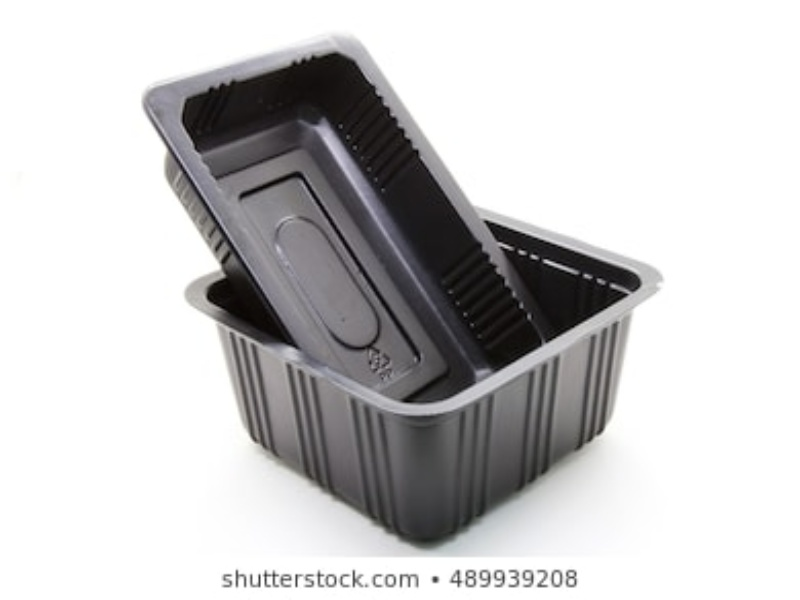plastic-container: (174, 199, 662, 547), (141, 31, 548, 392)
